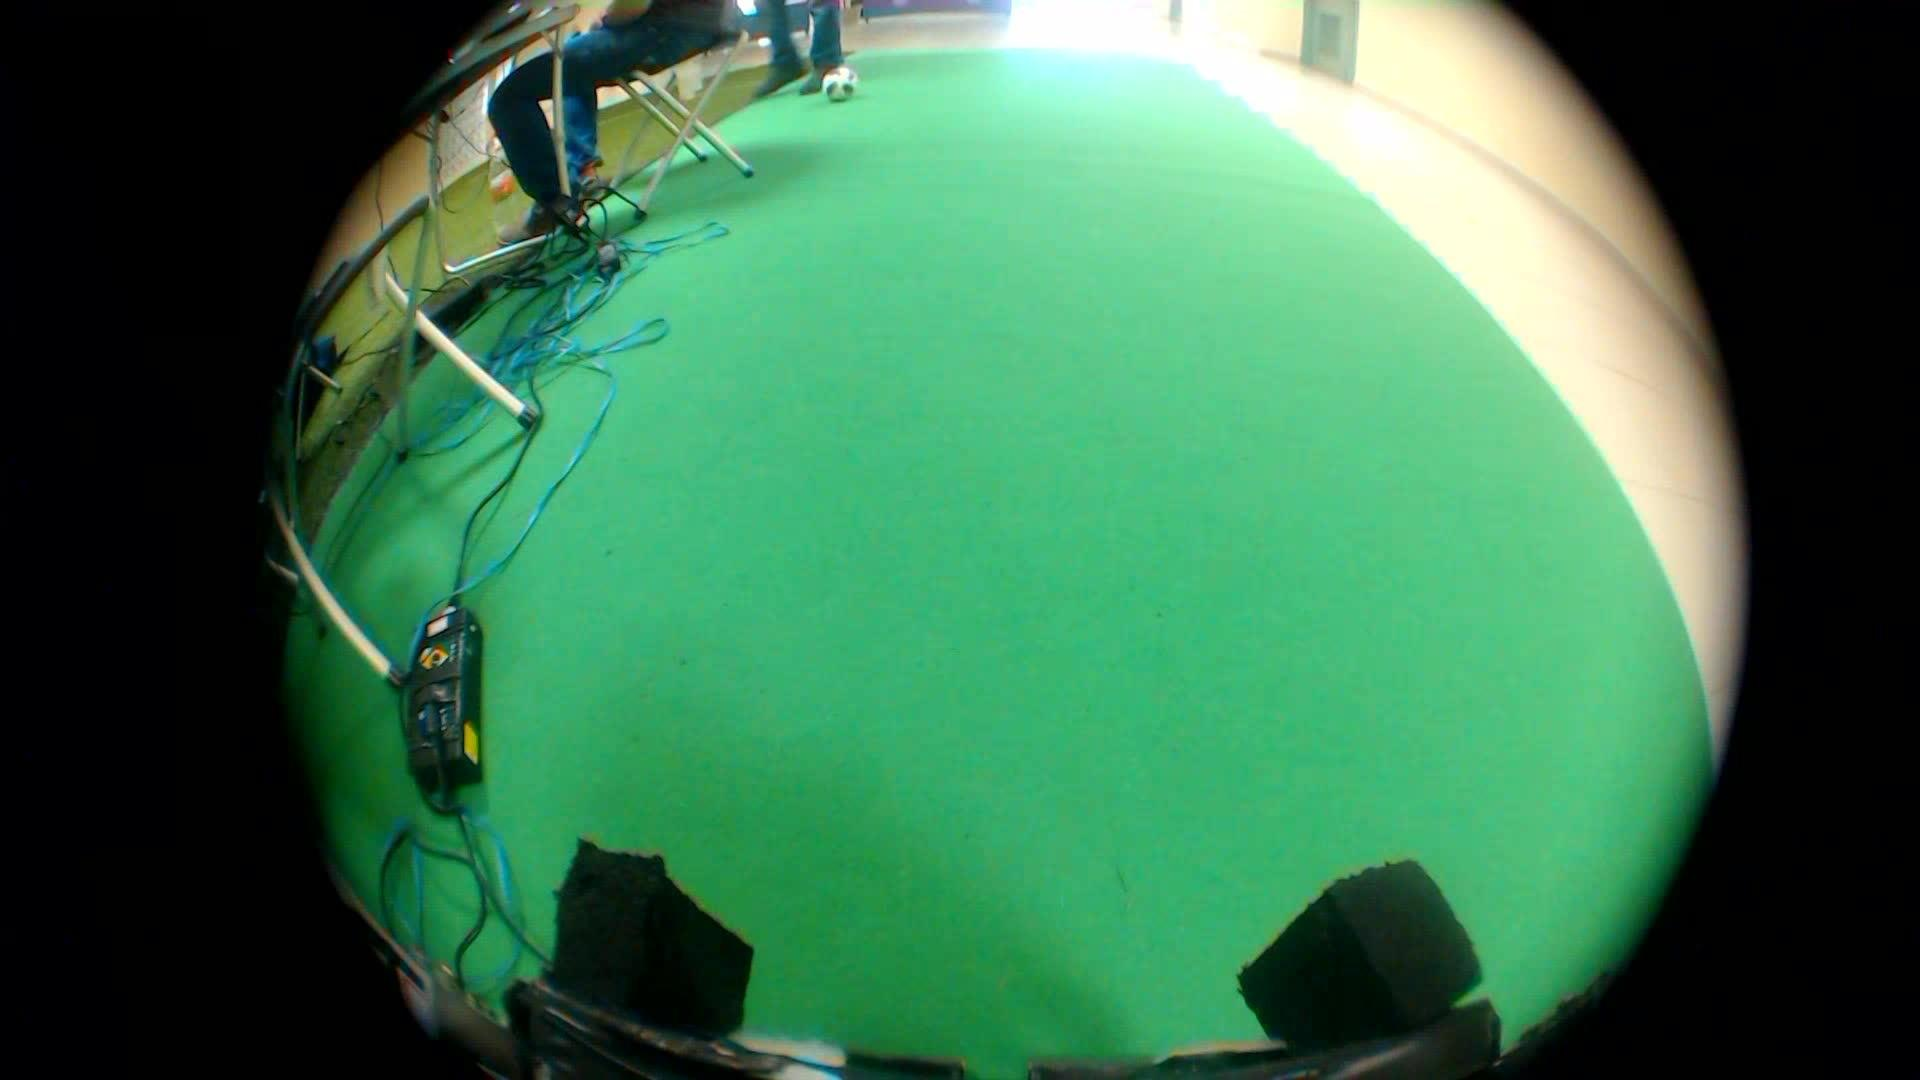ball: (814, 67, 858, 111)
